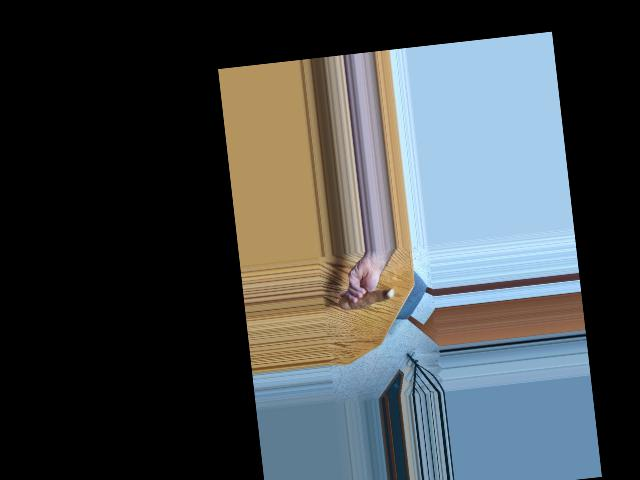sweet_potato: (336, 282, 394, 313)
